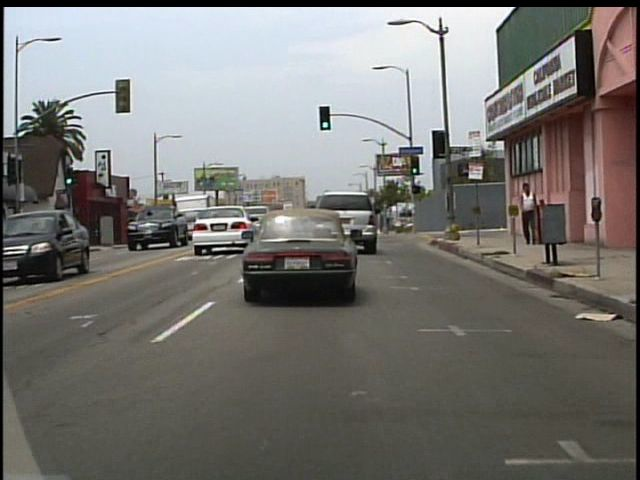person: (517, 178, 540, 245)
